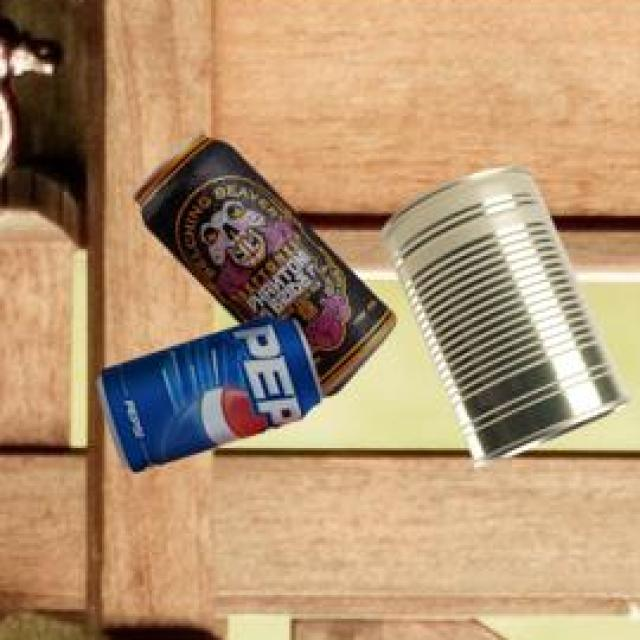logam: (385, 169, 634, 471), (139, 136, 399, 401), (101, 321, 324, 475)
